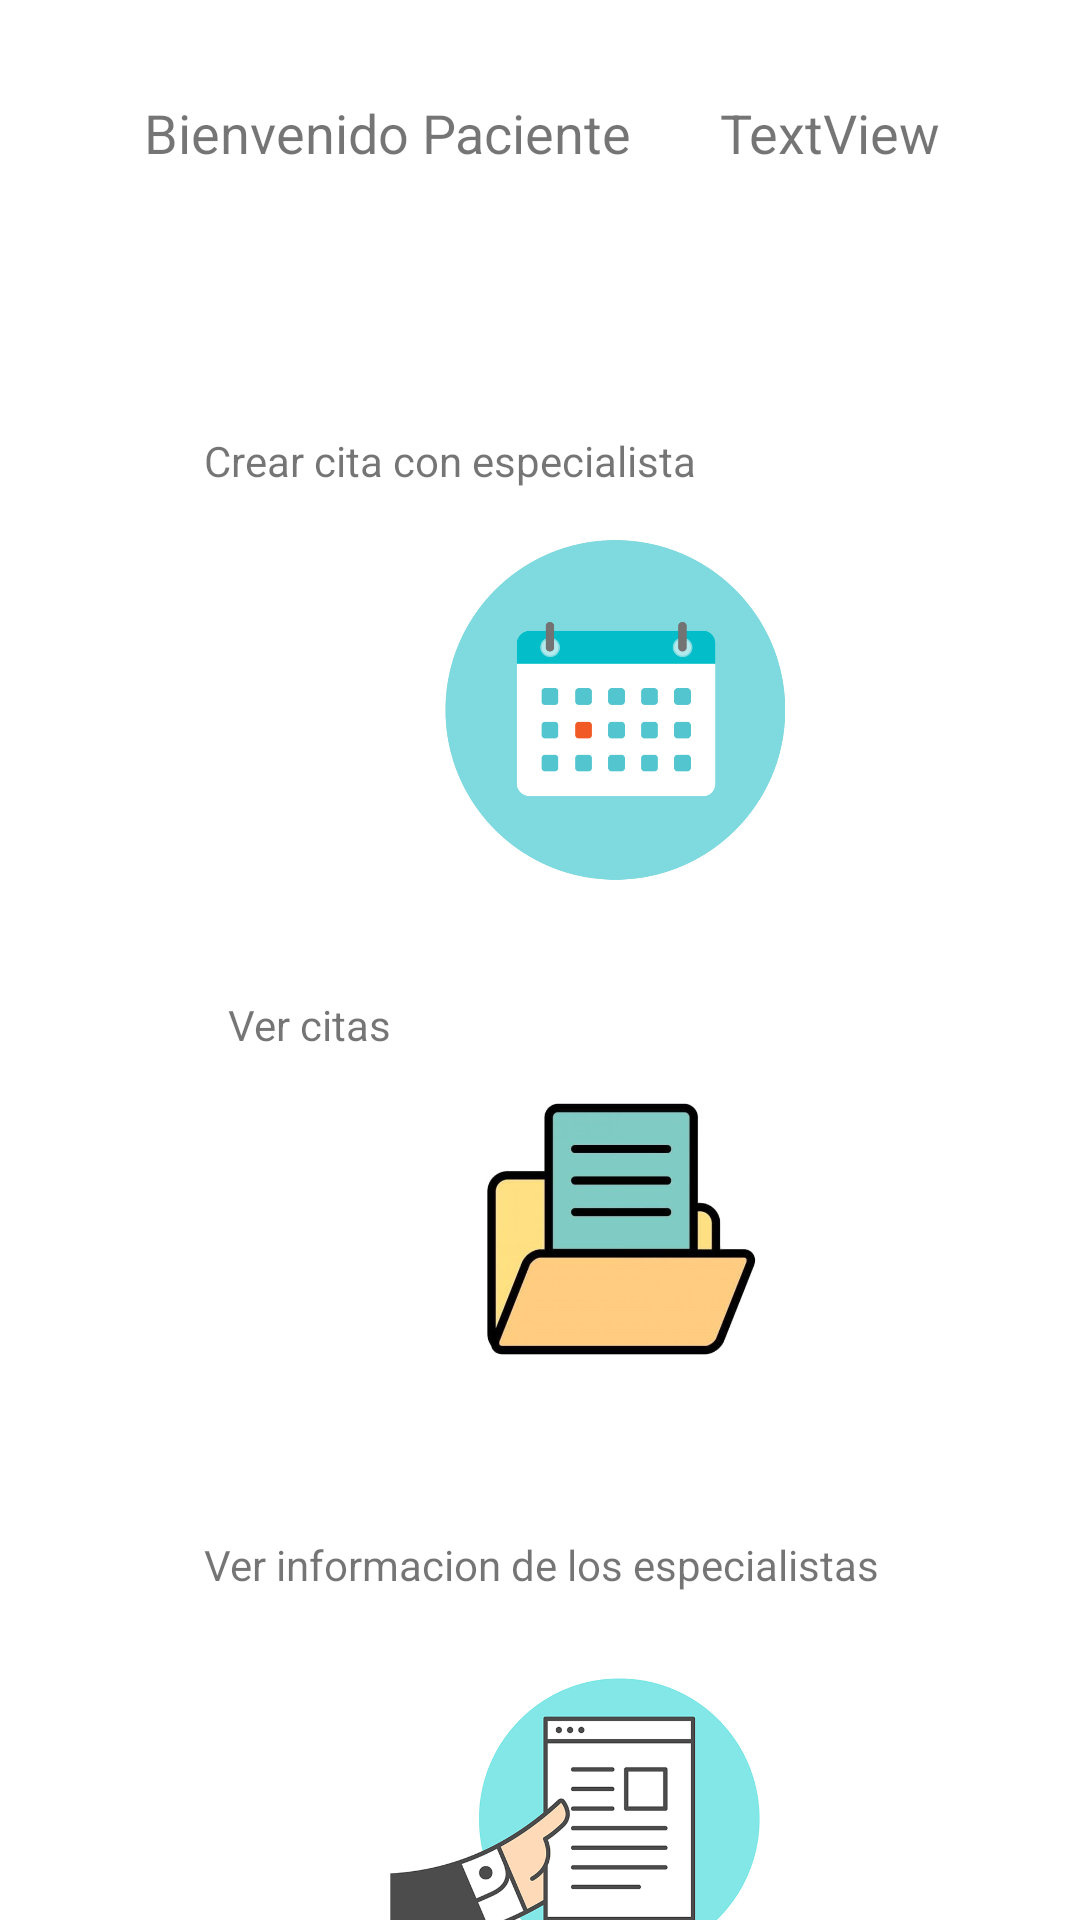

Named icons in this screenshot (1080x1920) and their bounding boxes, (x1, y1, x2, y2):
agendar: (445, 540, 785, 880)
